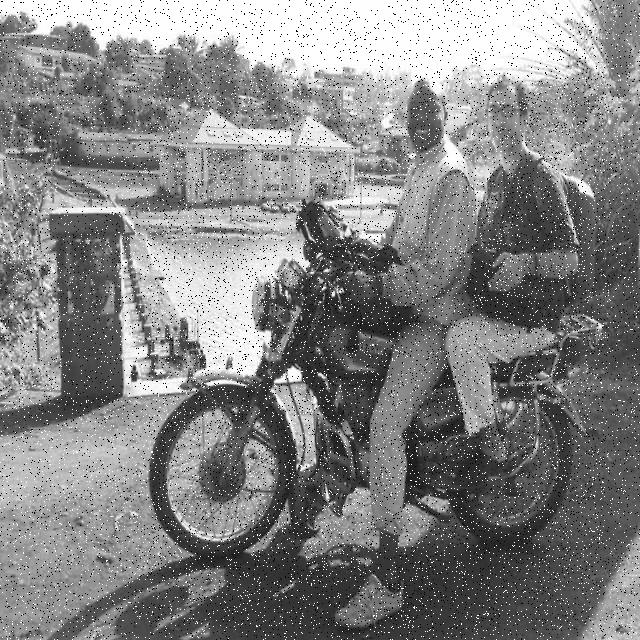Motorbike: (149, 76, 605, 630)
